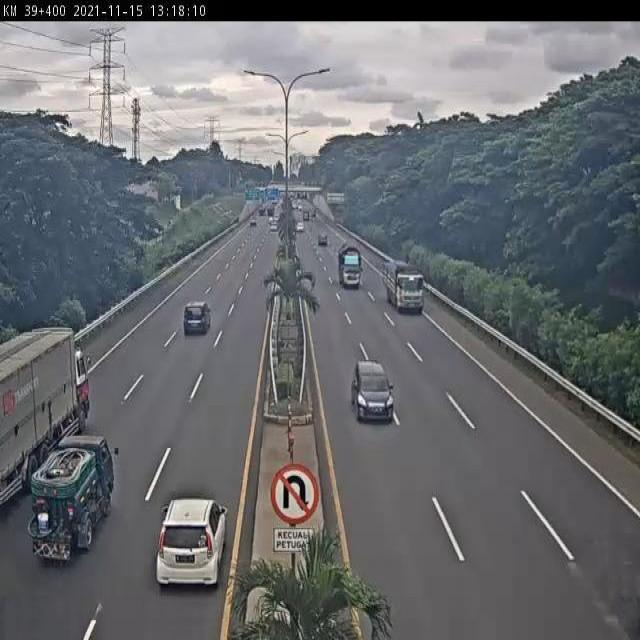car: (156, 498, 231, 590), (352, 362, 395, 422), (183, 300, 212, 335)
truck-l-: (0, 320, 94, 504), (380, 259, 426, 313)
truck-s-: (28, 430, 115, 566), (337, 238, 362, 290)
